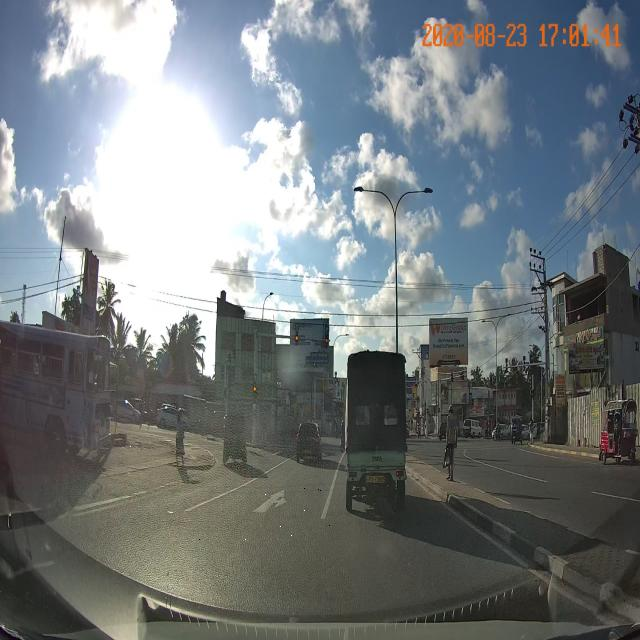forward: (181, 468, 334, 542)
